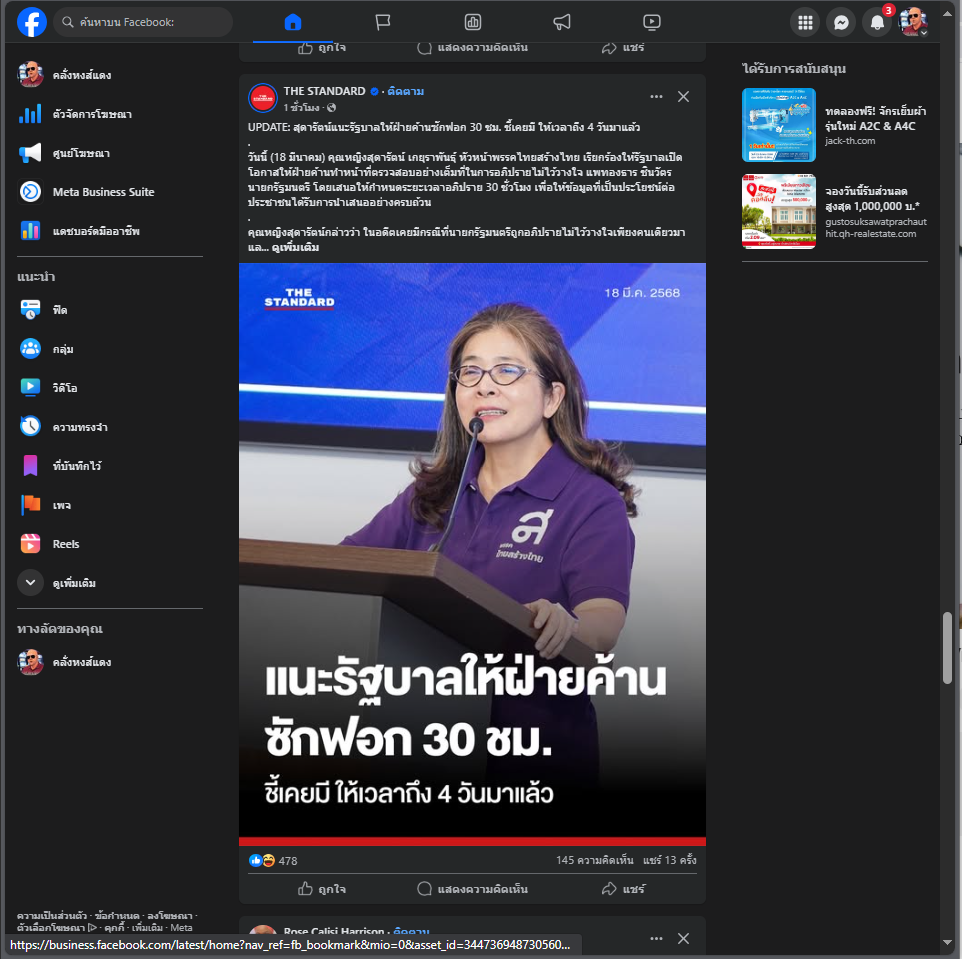topic: (239, 75, 707, 907)
